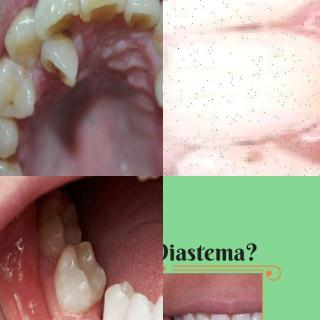Gum Swelling: (264, 0, 320, 160)
cavities: (0, 122, 8, 155)
maligned: (40, 32, 98, 96), (29, 0, 82, 43)
plaque: (247, 38, 320, 131)
